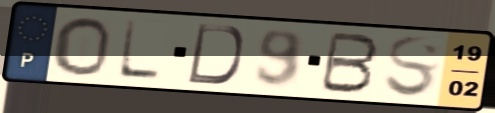9: (252, 27, 303, 90)
B: (316, 30, 383, 96)
D: (184, 21, 246, 87)
L: (114, 17, 164, 83)
O: (51, 15, 113, 78)
S: (381, 34, 444, 101)
